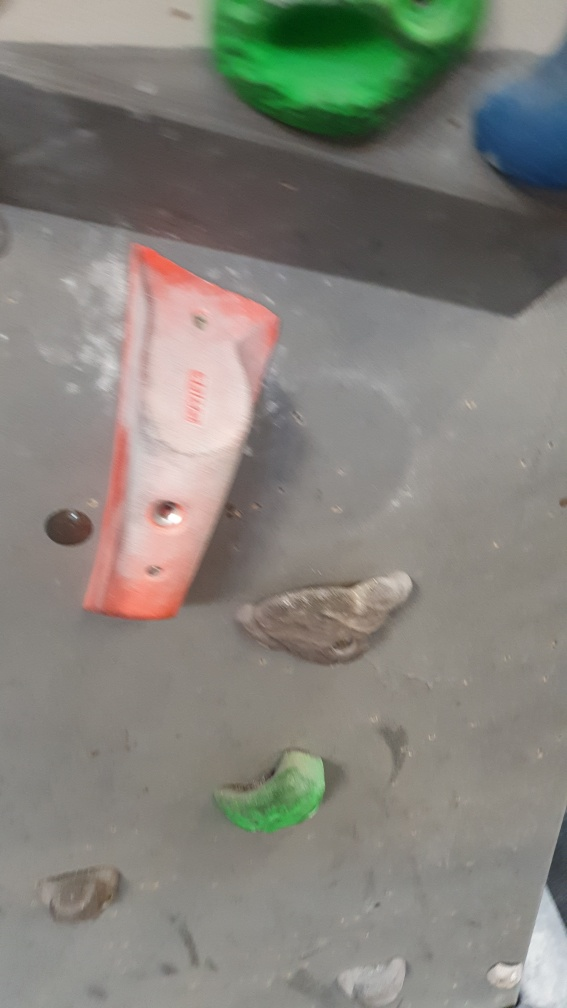Hand Start: (42, 502, 99, 555)
Jug: (236, 563, 416, 668), (213, 744, 327, 838)
Pinch: (75, 239, 287, 627)
